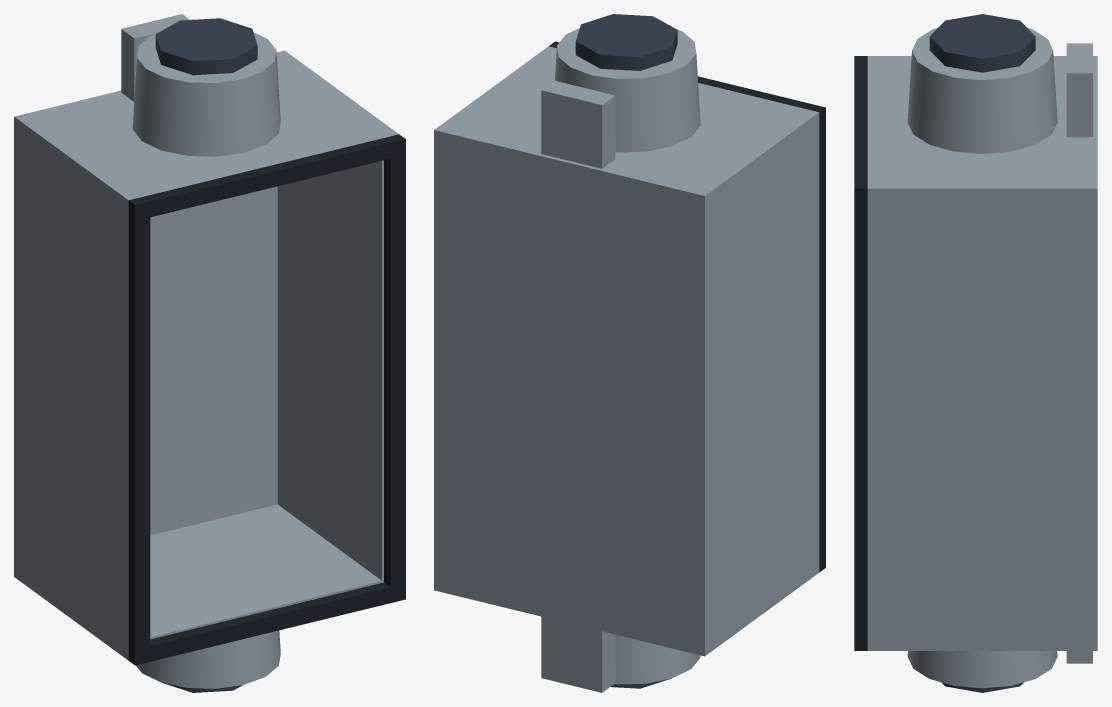
3 renders of one model, left to right at view 1: azimuth 30°, elevation 25°; view 2: azimuth 150°, elevation 25°; view 3: azimuth 270°, elevation 25°, orthographic.
Parts seen in each view (by area): view 1: cad-box-weatherproof-fs; view 2: cad-box-weatherproof-fs; view 3: cad-box-weatherproof-fs.
Boxes of the visible parts, x1,y1,x2,y2 form: cad-box-weatherproof-fs: [14, 14, 405, 692]; cad-box-weatherproof-fs: [434, 14, 825, 692]; cad-box-weatherproof-fs: [854, 14, 1097, 692].
Bounding box in the file's own units: 0.0711 × 0.1586 × 0.0551.
